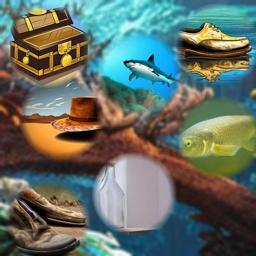not an animal: (10, 185, 88, 255), (100, 158, 167, 233), (29, 89, 103, 149), (177, 22, 252, 70)
treasure: (9, 6, 90, 83)
